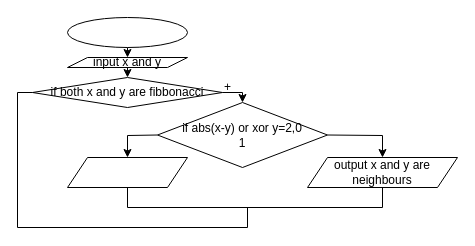
Image size: 475x246. Some labels were removed from this diagram. Here are the shapes that lost their labels. From the top down, the centre of each, then its label:
point 127,32: check if neighbour
point 127,172: y and x are not neighbours
